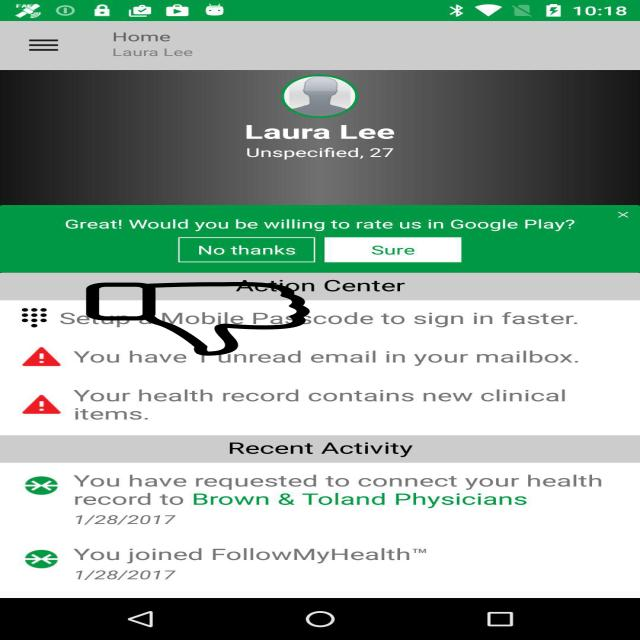obstruction: (83, 282, 313, 356)
